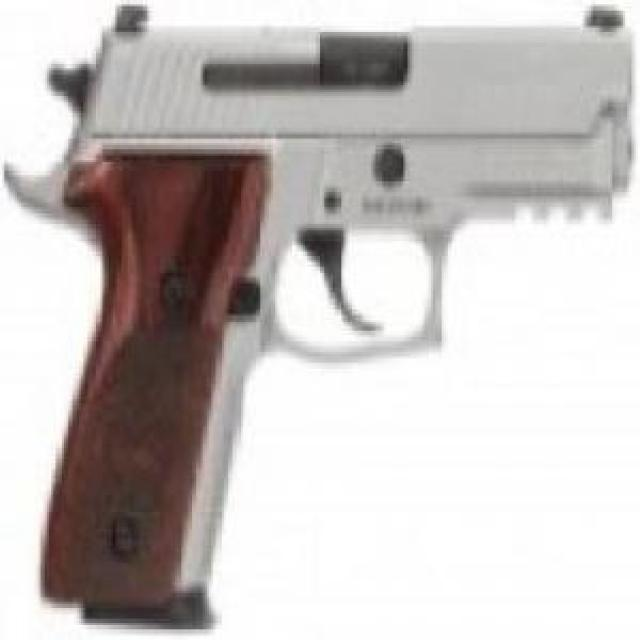pistol: (9, 6, 634, 620)
